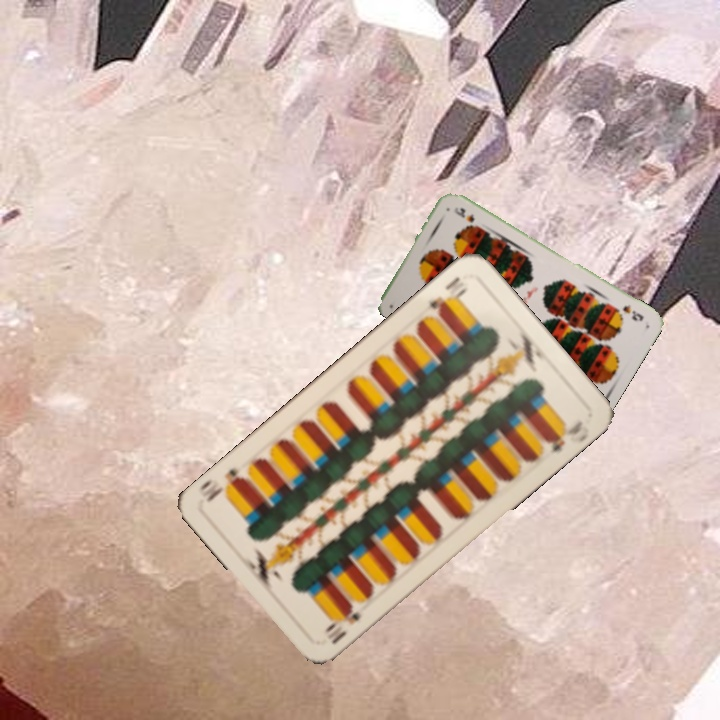E10: (425, 272, 471, 317), (320, 601, 364, 647)
S9: (619, 301, 646, 324)
